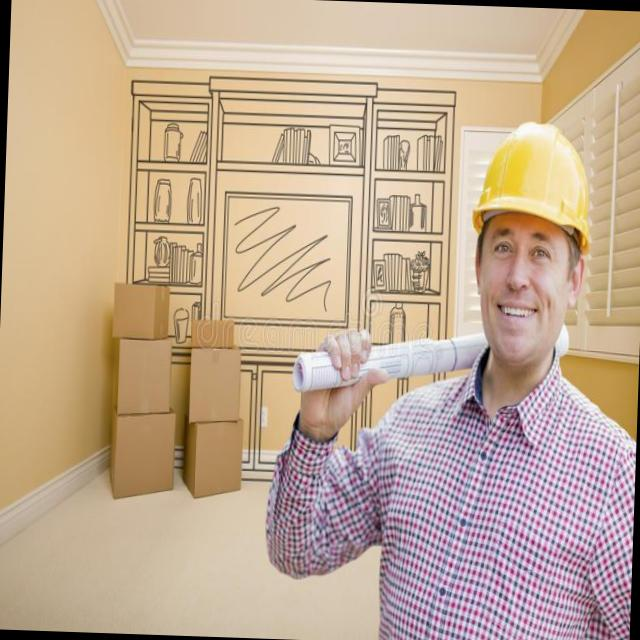helmet: (455, 113, 600, 265)
no-vest: (353, 357, 635, 640)
